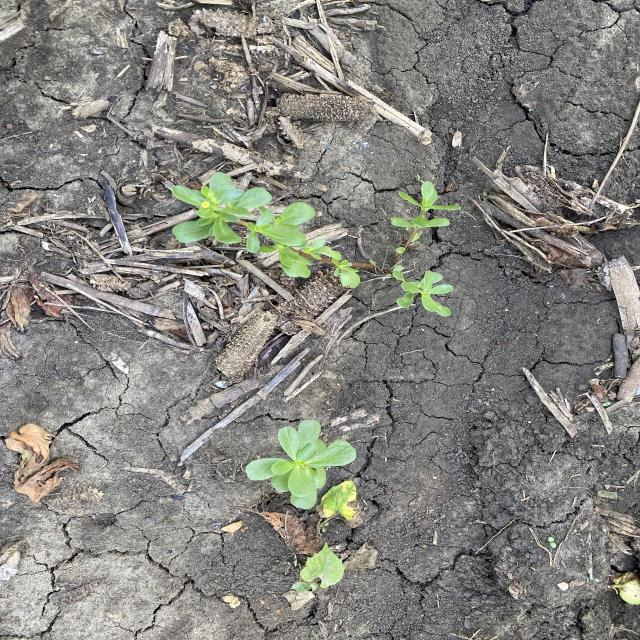MorningGlory: (288, 540, 346, 596)
Purslane: (169, 167, 464, 320), (246, 418, 360, 510)
